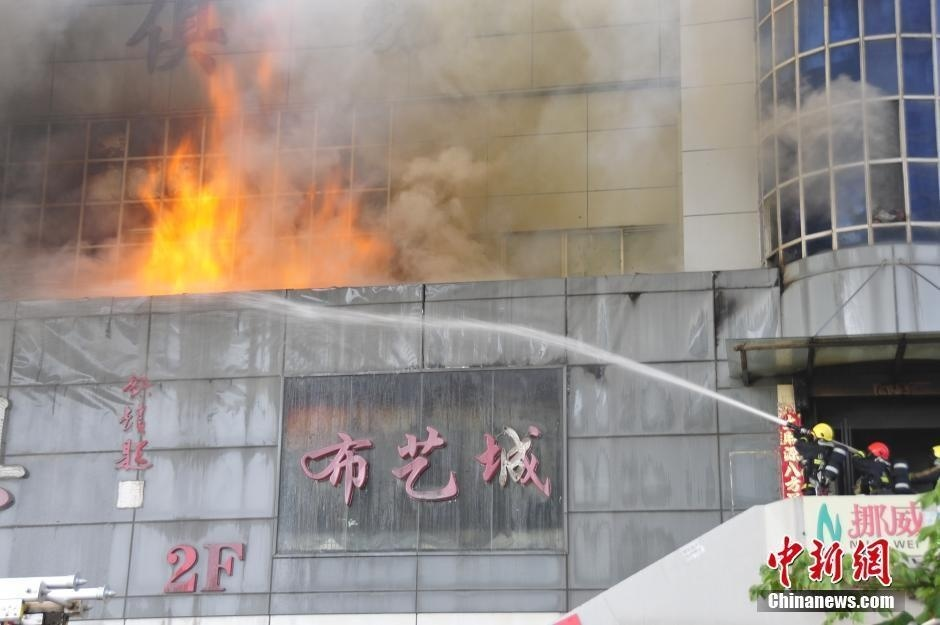fire: (121, 20, 397, 294)
